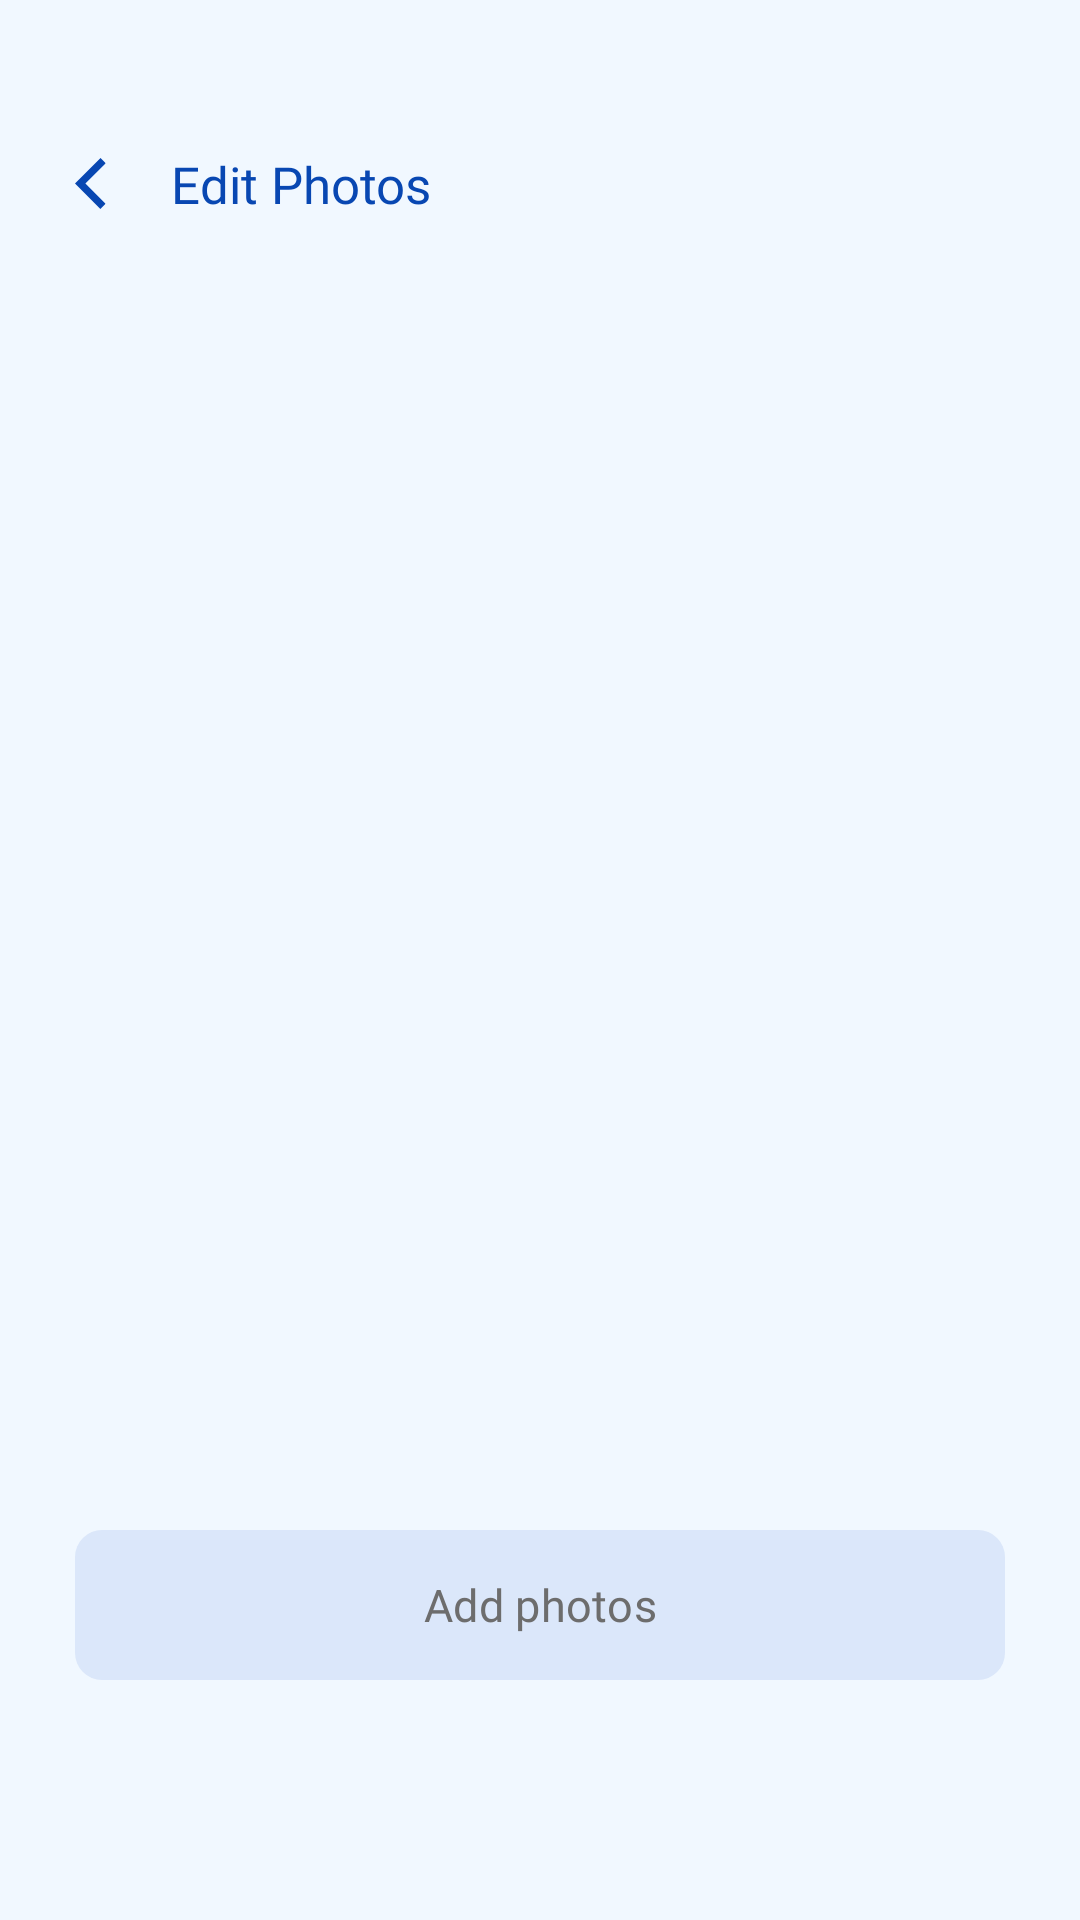

Point at icon controls on the screen. Image size 1080px×1920px, points as point (x, y).
return: point (90, 183)
